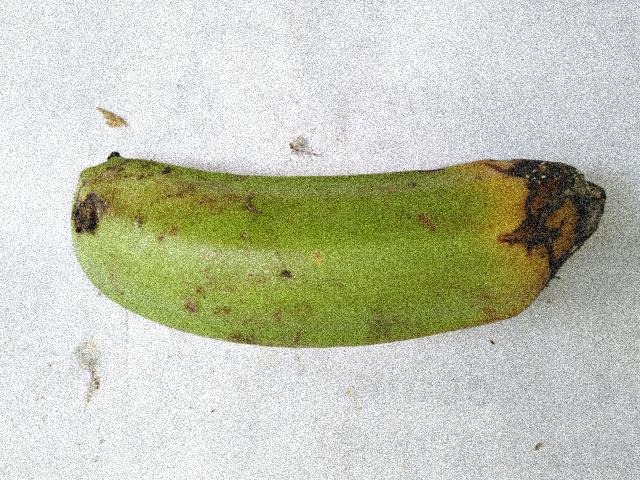rotten: (450, 132, 639, 367)
unripe: (59, 154, 496, 356)
